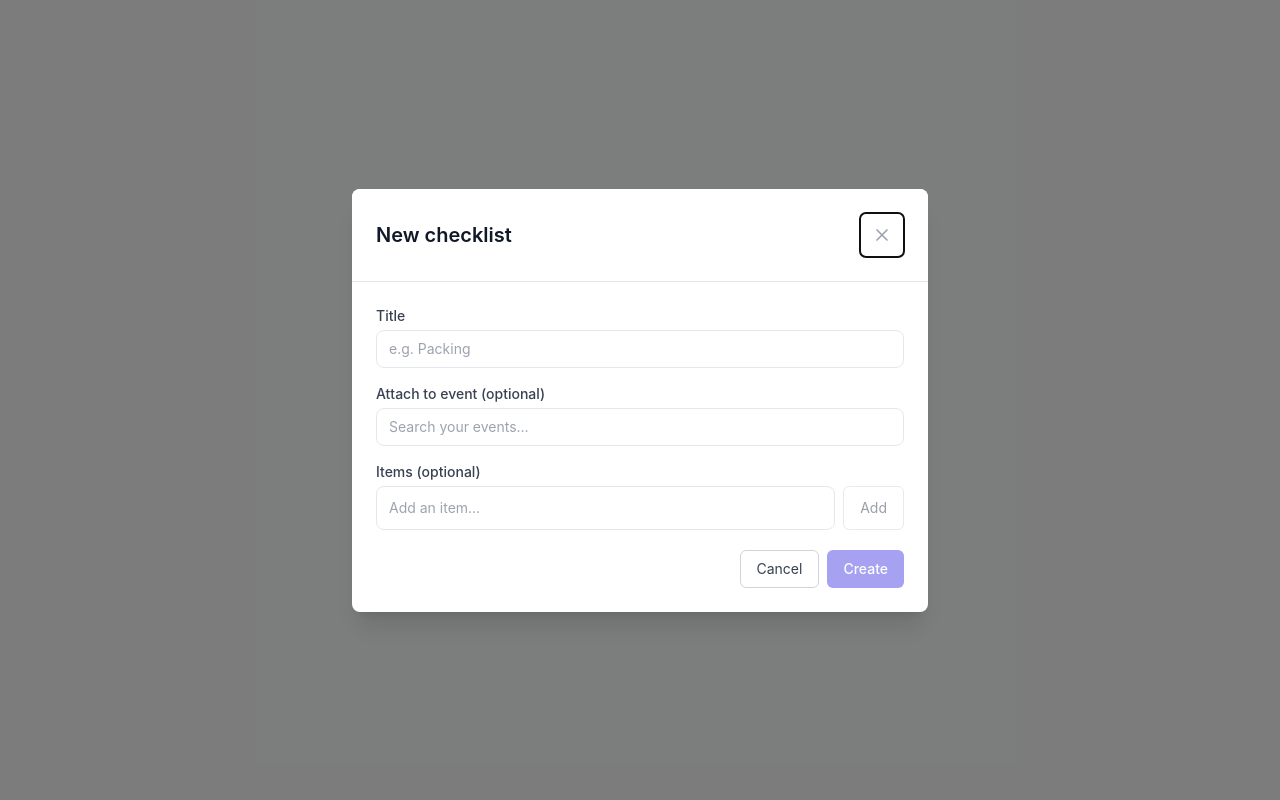
Test case: ChecklistCreateForm › hides cancelled events from the attach picker
Type "tax" into the field with placeholder "Search your events…" at (640, 426), box x1=376 y1=408 x2=904 y2=446
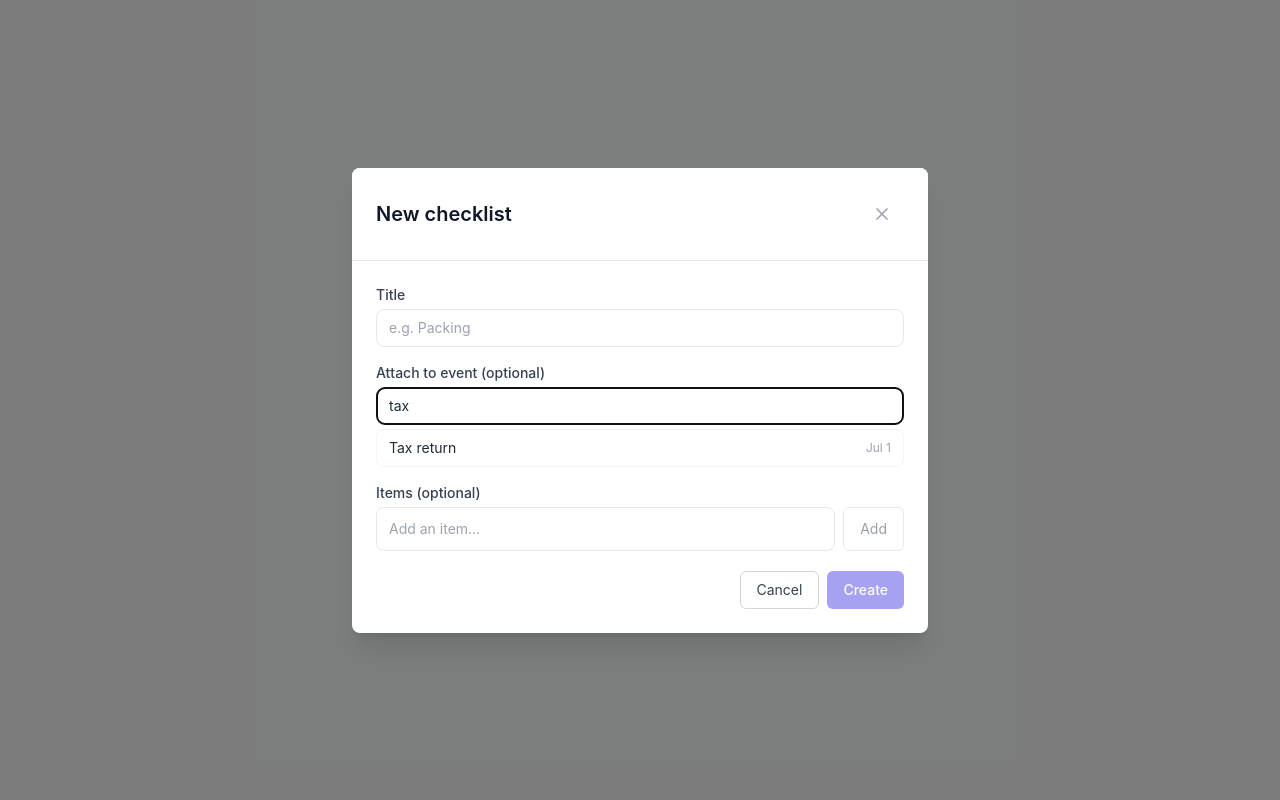
Now the text "Tax return" is shown once, box x1=389 y1=438 x2=456 y2=458
